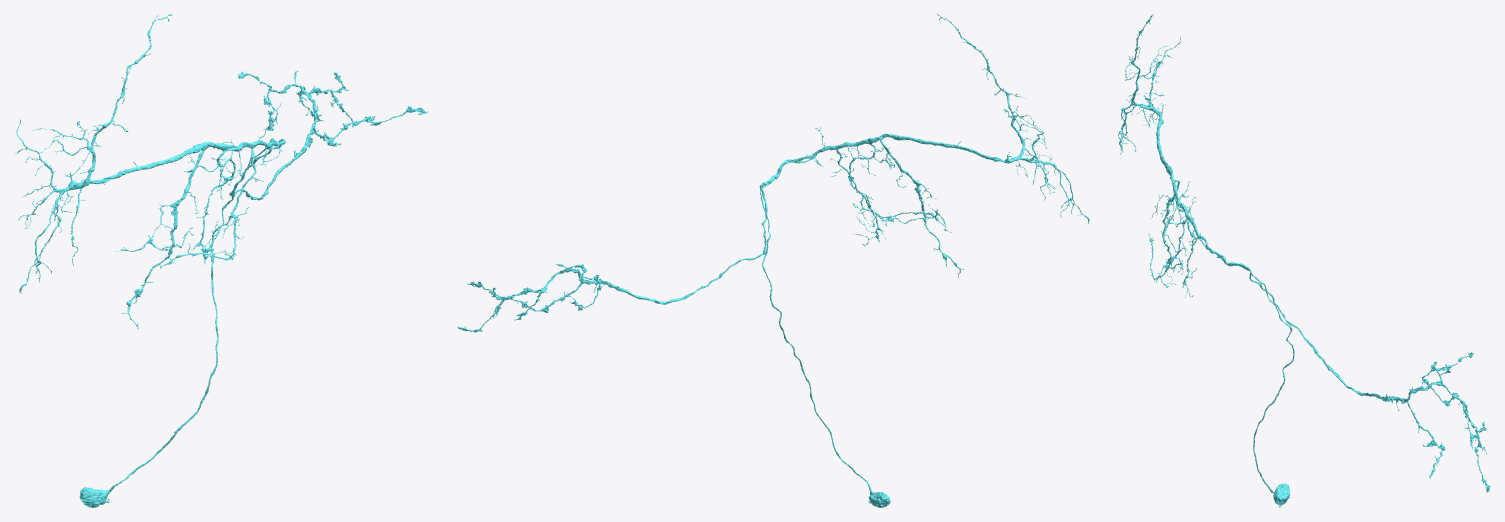
File: VFB_jrmc23q8.glb
3 views of the same model, side by side, from view 1: azimuth 30°, elevation 25°; view 2: azimuth 150°, elevation 25°; view 3: azimuth 270°, elevation 25° (orthographic). The views are drawn at different scales.
Parts seen in each view (by area): view 1: VFB_jrmc23q8; view 2: VFB_jrmc23q8; view 3: VFB_jrmc23q8.
Part boxes in pixels (bbox=[...]): VFB_jrmc23q8: bbox=[14, 14, 428, 507]; VFB_jrmc23q8: bbox=[457, 14, 1089, 507]; VFB_jrmc23q8: bbox=[1118, 14, 1490, 507].
Size of the model in its own units: 0.103 by 0.092 by 0.0641.
